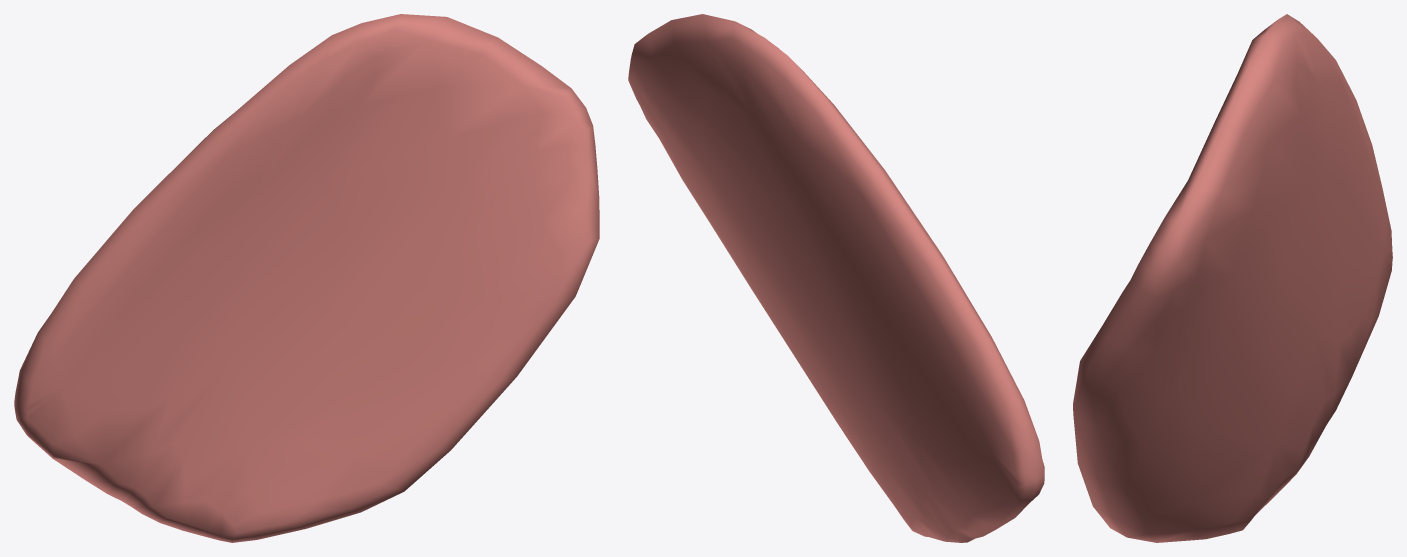
3 views of the same model, side by side, from view 1: azimuth 30°, elevation 25°; view 2: azimuth 150°, elevation 25°; view 3: azimuth 270°, elevation 25° (orthographic). The views are drawn at different scales.
Visible parts, largest first — view 1: ZA_b2926009638bd961; view 2: ZA_b2926009638bd961; view 3: ZA_b2926009638bd961.
Part boxes in pixels (bbox=[...]): ZA_b2926009638bd961: bbox=[14, 14, 599, 542]; ZA_b2926009638bd961: bbox=[628, 14, 1044, 542]; ZA_b2926009638bd961: bbox=[1073, 14, 1392, 542].
Size of the model in its own units: 0.00732 by 0.00678 by 0.00326.
